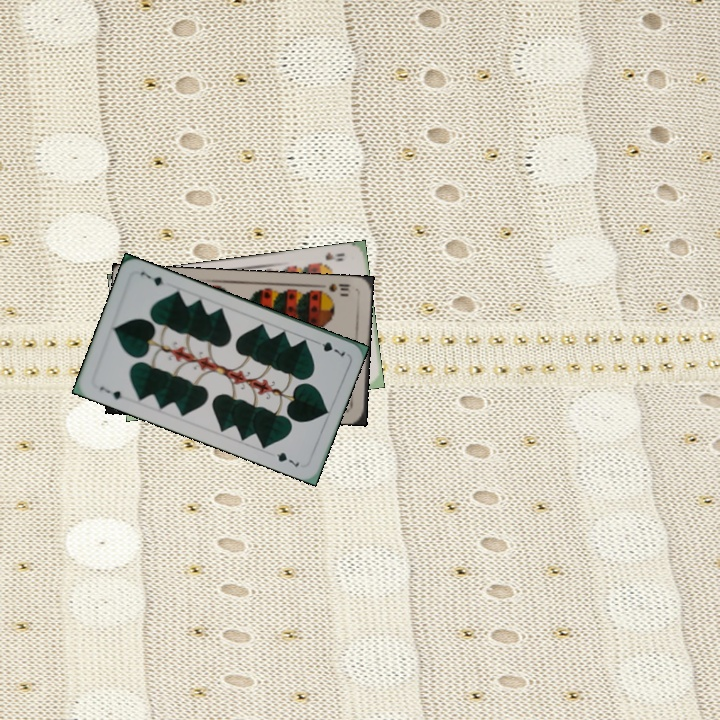G7: (310, 337, 348, 360), (95, 382, 125, 402)
S10: (315, 279, 352, 297)
S9: (311, 248, 347, 269)
